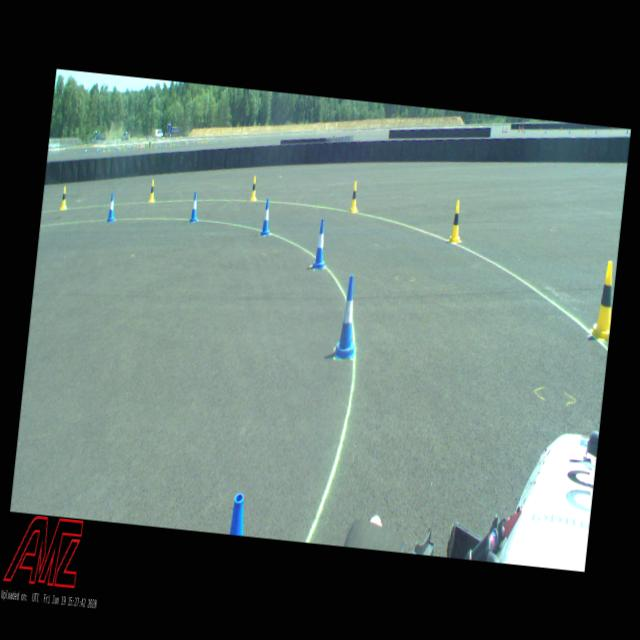blue_cone: (334, 274, 362, 359), (311, 218, 330, 270), (229, 492, 247, 536), (259, 198, 273, 237), (189, 191, 200, 222), (106, 192, 117, 221)
yellow_cone: (589, 260, 616, 340), (448, 199, 466, 243), (348, 181, 361, 212), (250, 175, 259, 201), (60, 186, 69, 210), (148, 179, 156, 202)
